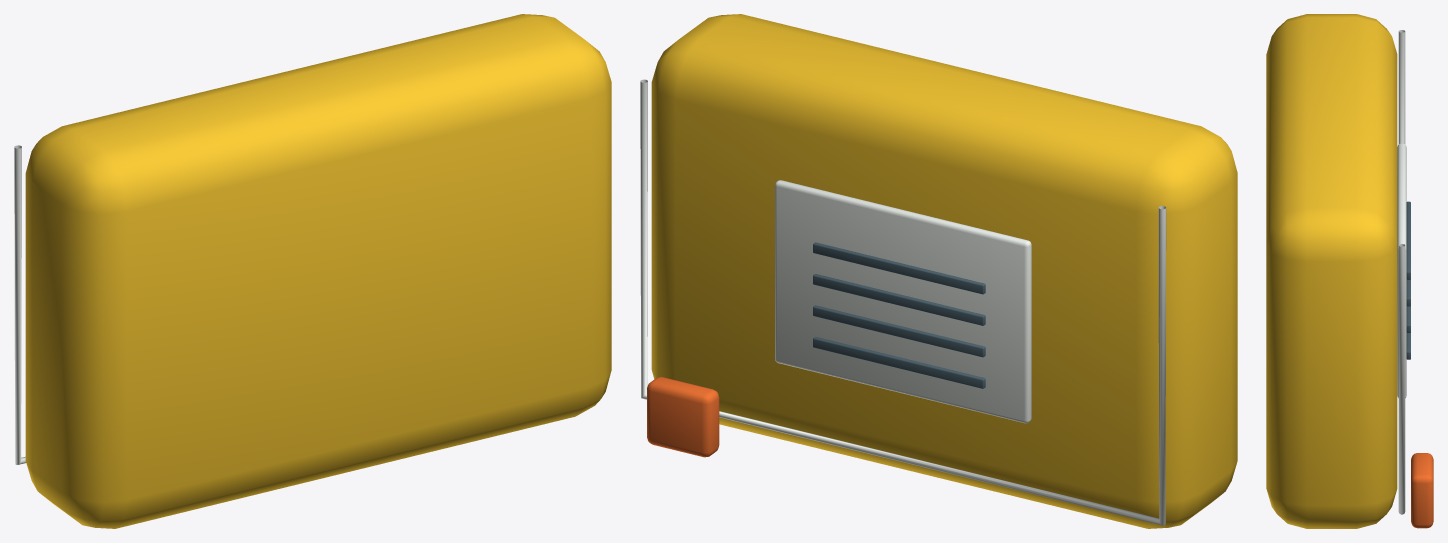
The model's file is life-vest-folded.glb.
3 views of the same model, side by side, from view 1: azimuth 30°, elevation 25°; view 2: azimuth 150°, elevation 25°; view 3: azimuth 270°, elevation 25° (orthographic). The views are drawn at different scales.
Visible parts, largest first — view 1: life-vest-folded; view 2: life-vest-folded; view 3: life-vest-folded.
Part boxes in pixels (x1=…): life-vest-folded: x1=14, y1=14, x2=611, y2=528; life-vest-folded: x1=640, y1=14, x2=1237, y2=528; life-vest-folded: x1=1266, y1=14, x2=1433, y2=528.
Bounding box in the file's own units: 0.235 × 0.1555 × 0.074.
